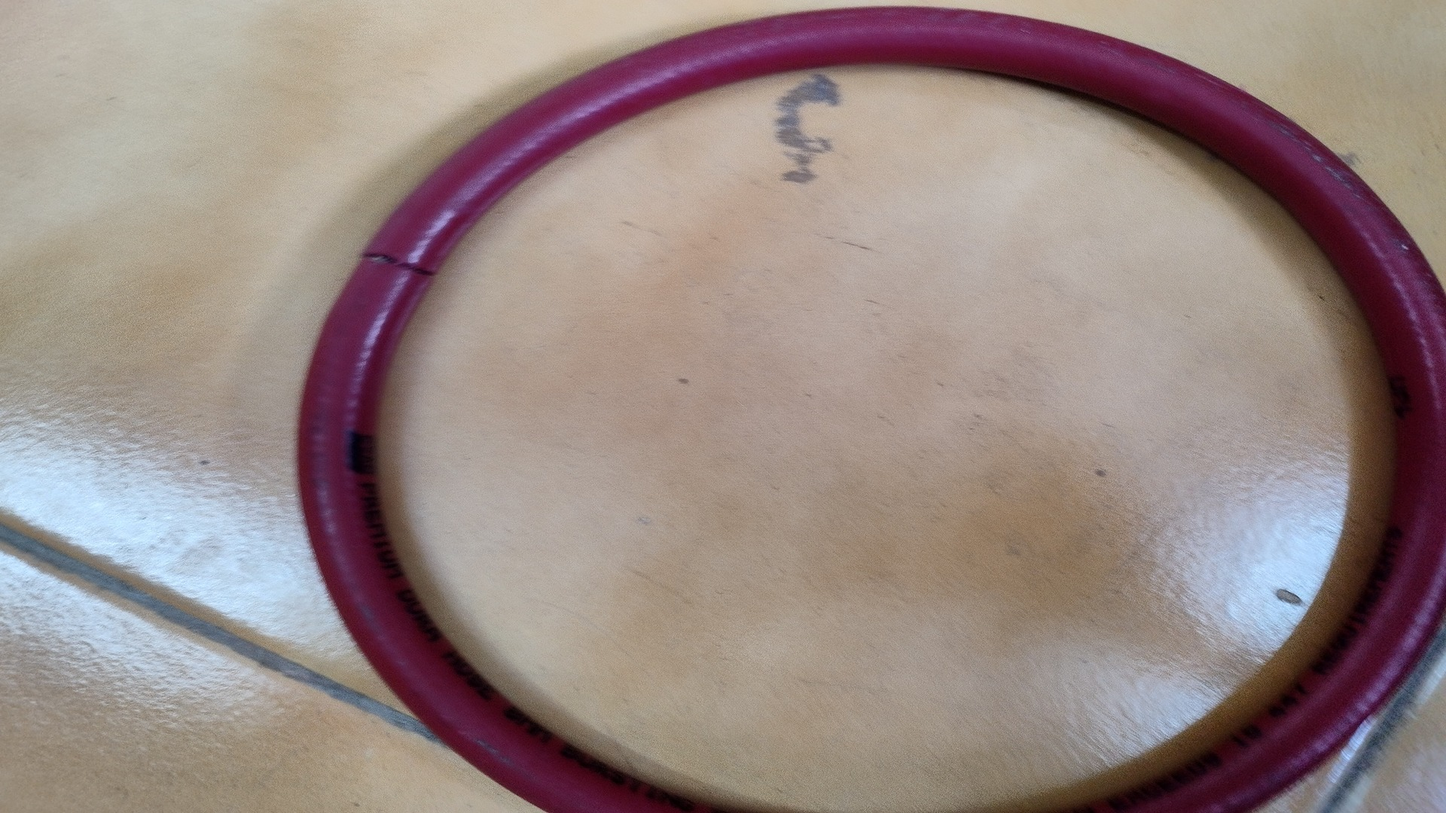Red ring: (299, 11, 1441, 813)
